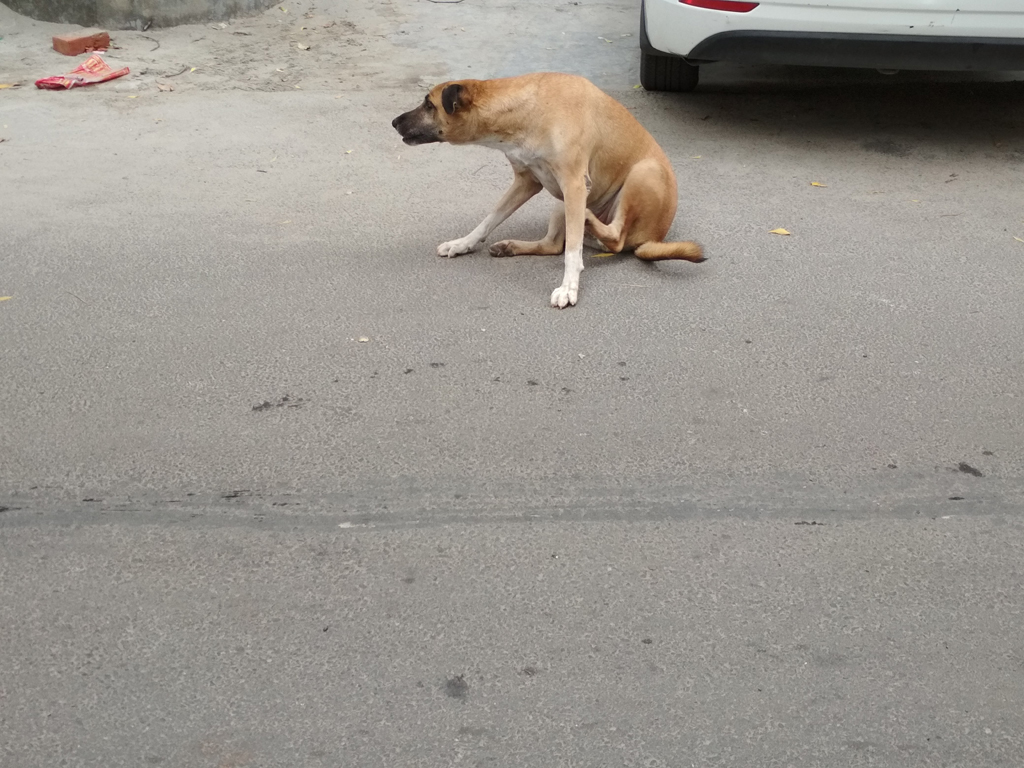dog: (393, 73, 709, 307)
